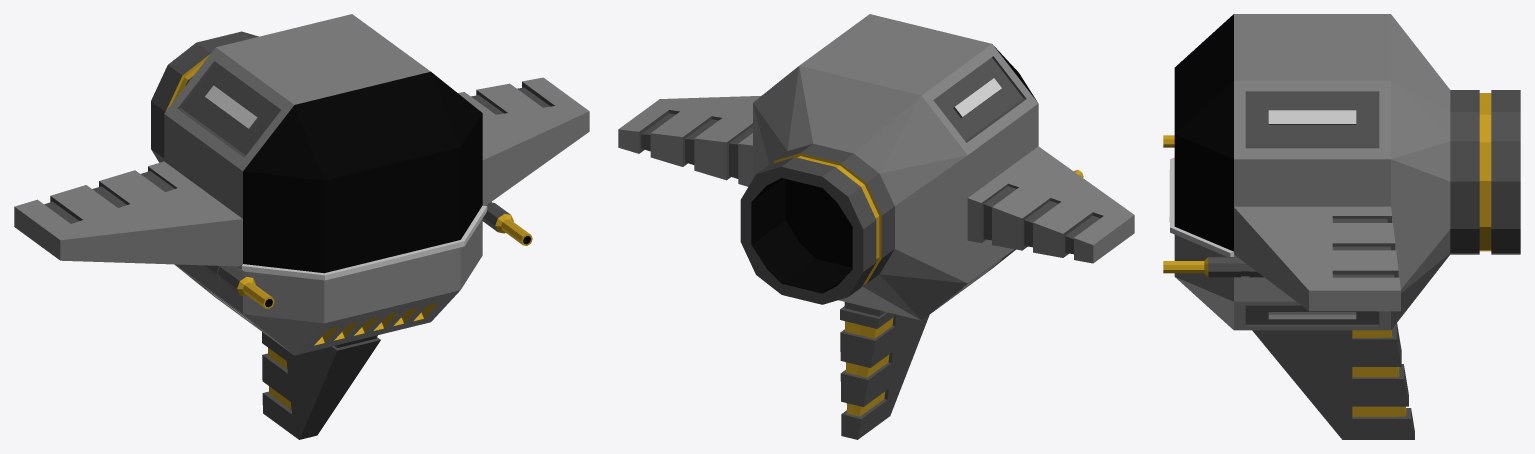
Rendered from Spaceship1_1.fbx.
The picture shows the model from 3 angles, left to right: view 1: azimuth 30°, elevation 25°; view 2: azimuth 150°, elevation 25°; view 3: azimuth 270°, elevation 25°; orthographic projection. The views are drawn at different scales.
Visible parts, largest first — view 1: Spaceship1_1; view 2: Spaceship1_1; view 3: Spaceship1_1.
Boxes of the visible parts, x1,y1,x2,y2 form: Spaceship1_1: (14,14,589,439); Spaceship1_1: (618,14,1134,439); Spaceship1_1: (1163,14,1520,439).
Size of the model in its own units: 442 by 311 by 259.
